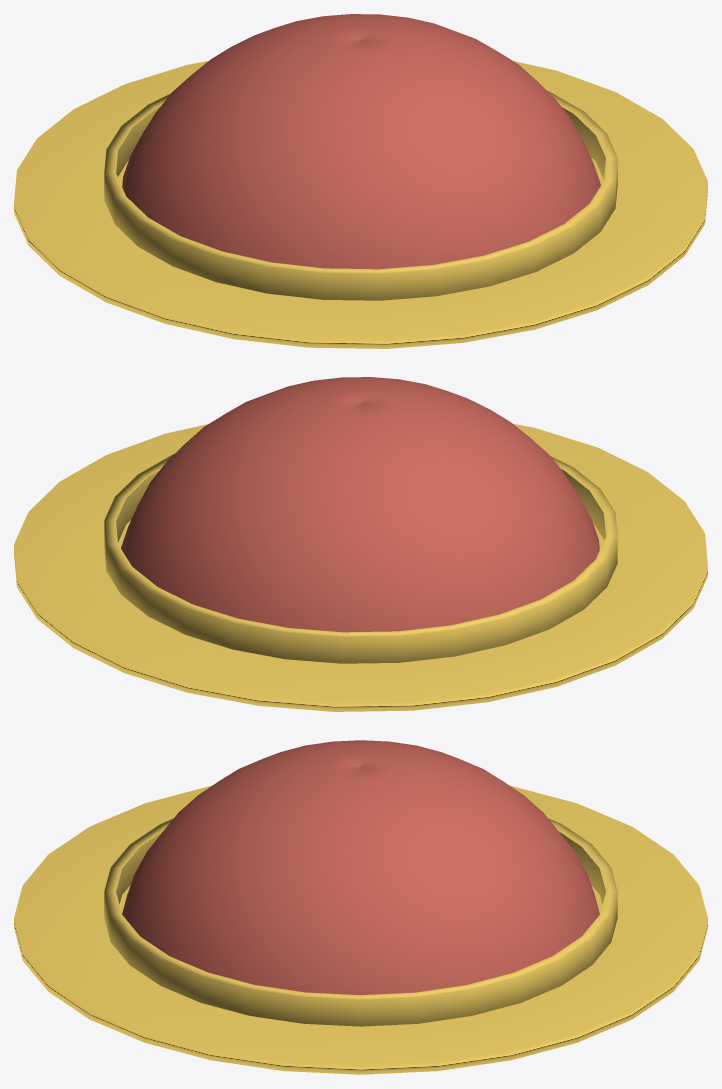
Rendered from cavalier_hat.glb.
3 views of the same model, one above another, from view 1: azimuth 30°, elevation 25°; view 2: azimuth 150°, elevation 25°; view 3: azimuth 270°, elevation 25° (orthographic).
Visible parts, largest first — view 1: cavalier_hat_Head; view 2: cavalier_hat_Head; view 3: cavalier_hat_Head.
Boxes of the visible parts, x1,y1,x2,y2 form: cavalier_hat_Head: (14,14,707,348); cavalier_hat_Head: (14,377,707,711); cavalier_hat_Head: (14,740,707,1074).
Size of the model in its own units: 1 by 0.258 by 1.
